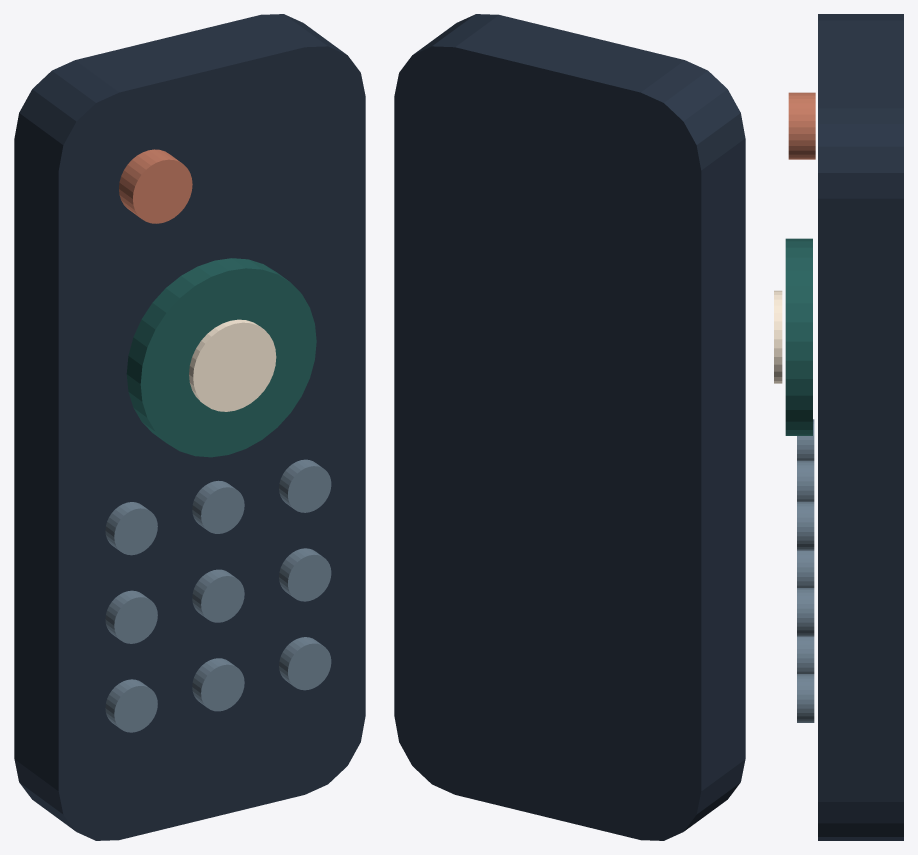
Rendered from remote.glb.
3 renders of one model, left to right at view 1: azimuth 30°, elevation 25°; view 2: azimuth 150°, elevation 25°; view 3: azimuth 270°, elevation 25°, orthographic. The views are drawn at different scales.
Visible parts, largest first — view 1: housing, direction ring, ok button, power key, key 1-2, key 0-2, key 1-1, key 0-1, key 2-1, key 0-0, key 2-0, key 1-0 (+1 smaller); view 2: housing; view 3: housing, direction ring, power key, key 2-0, key 2-1, key 2-2, ok button, key 1-0, key 1-1, key 1-2, key 0-0.
Part boxes in pixels (x1,y1,x2,y2): housing: (14, 14, 365, 840); direction ring: (126, 258, 316, 457); ok button: (189, 319, 276, 411); power key: (119, 149, 192, 223); key 1-2: (192, 658, 244, 711); key 0-2: (105, 679, 157, 732); key 1-1: (192, 569, 244, 622); key 0-1: (105, 590, 157, 643); key 2-1: (279, 548, 331, 601); key 0-0: (105, 502, 157, 555); key 2-0: (279, 459, 331, 512); key 1-0: (192, 480, 244, 533); housing: (394, 14, 745, 840); housing: (818, 14, 903, 840); direction ring: (785, 238, 812, 435); power key: (788, 92, 815, 159); key 2-0: (797, 501, 814, 550); key 2-1: (797, 588, 814, 636); key 2-2: (797, 674, 814, 722); ok button: (774, 290, 782, 383); key 1-0: (797, 460, 814, 501); key 1-1: (797, 550, 814, 587); key 1-2: (797, 636, 814, 673); key 0-0: (797, 419, 814, 460).
Bounding box in the file's own units: 0.76 × 1.77 × 0.287.
